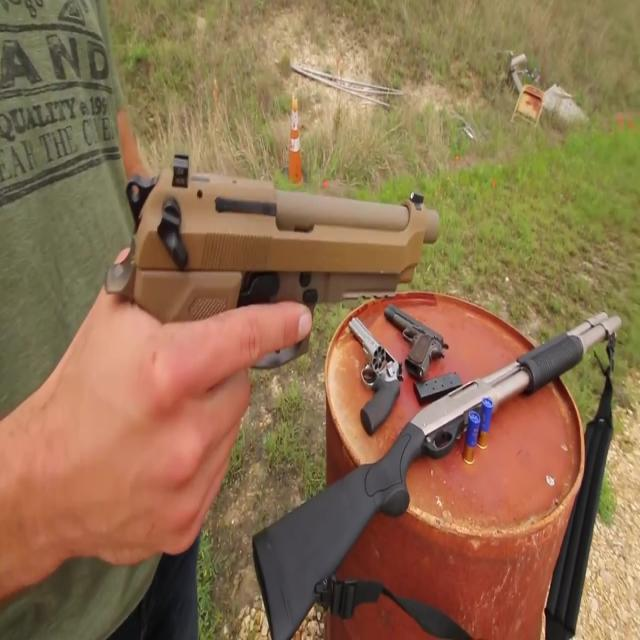Weapon: (82, 90, 630, 634)
